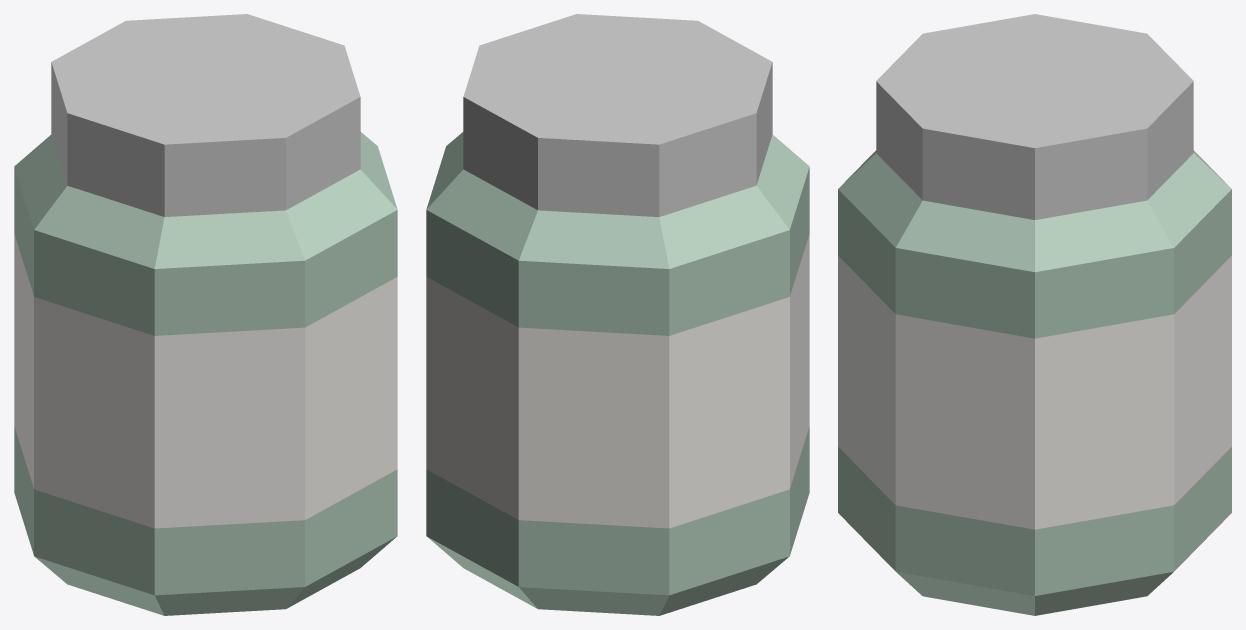
The model's file is Antibiotics.fbx.
3 views of the same model, side by side, from view 1: azimuth 30°, elevation 25°; view 2: azimuth 150°, elevation 25°; view 3: azimuth 270°, elevation 25° (orthographic).
Parts seen in each view (by area): view 1: Antibiotics; view 2: Antibiotics; view 3: Antibiotics.
Boxes of the visible parts, x1,y1,x2,y2 form: Antibiotics: [14, 14, 397, 615]; Antibiotics: [426, 14, 809, 615]; Antibiotics: [838, 14, 1231, 615].
Bounding box in the file's own units: 0.0992 × 0.13 × 0.0992.
